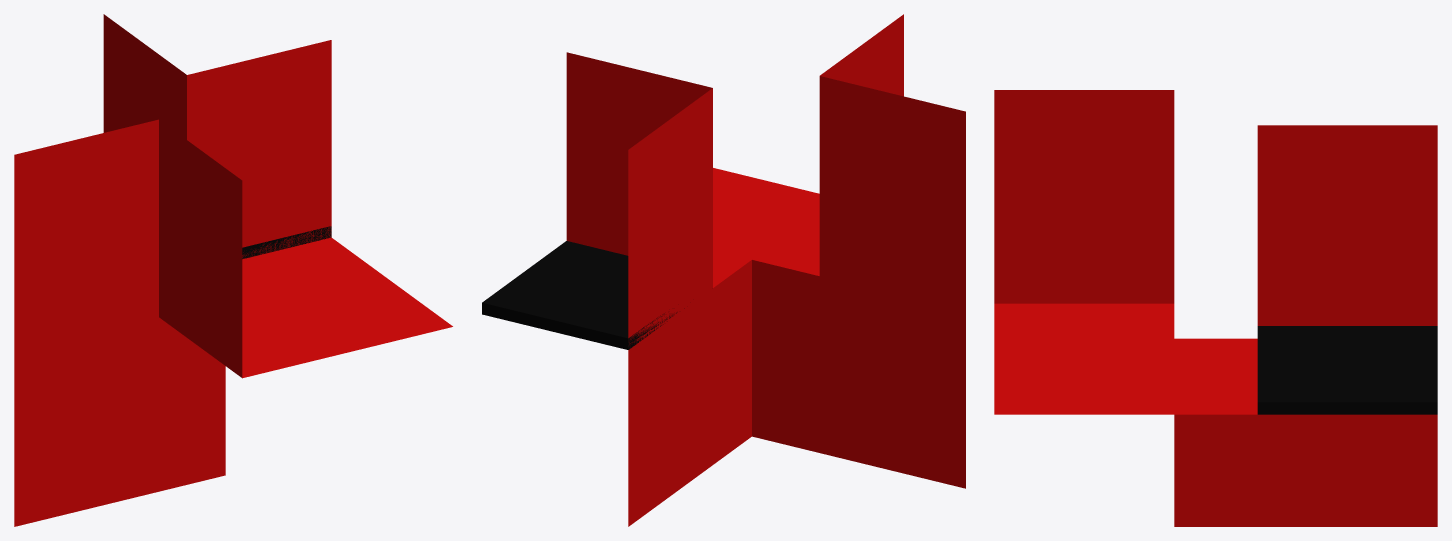
3 views of the same model, side by side, from view 1: azimuth 30°, elevation 25°; view 2: azimuth 150°, elevation 25°; view 3: azimuth 270°, elevation 25° (orthographic). The views are drawn at different scales.
Parts seen in each view (by area): view 1: None_P_E_E_A_A_E_A_E_None; view 2: None_P_E_E_A_A_E_A_E_None; view 3: None_P_E_E_A_A_E_A_E_None.
Boxes of the visible parts, x1=… form: None_P_E_E_A_A_E_A_E_None: x1=14, y1=14, x2=452, y2=526; None_P_E_E_A_A_E_A_E_None: x1=482, y1=14, x2=965, y2=526; None_P_E_E_A_A_E_A_E_None: x1=994, y1=90, x2=1437, y2=526.
Bounding box in the file's own units: 100 × 100 × 100.
